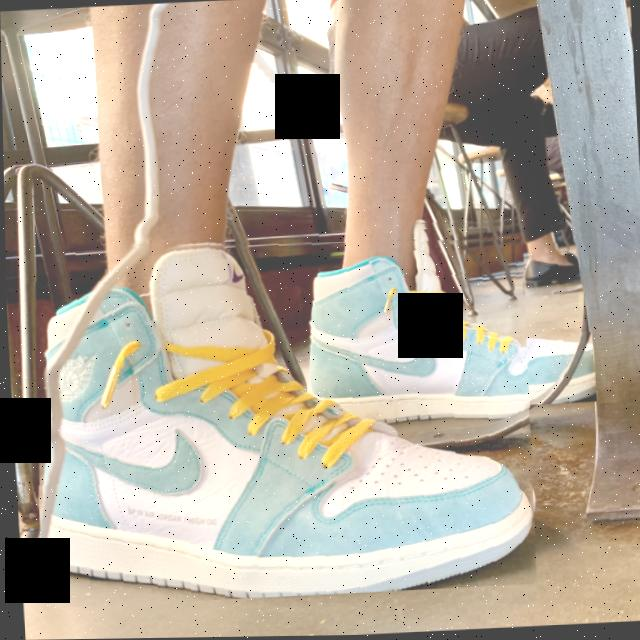shoe: (23, 225, 539, 608), (299, 212, 594, 417)
